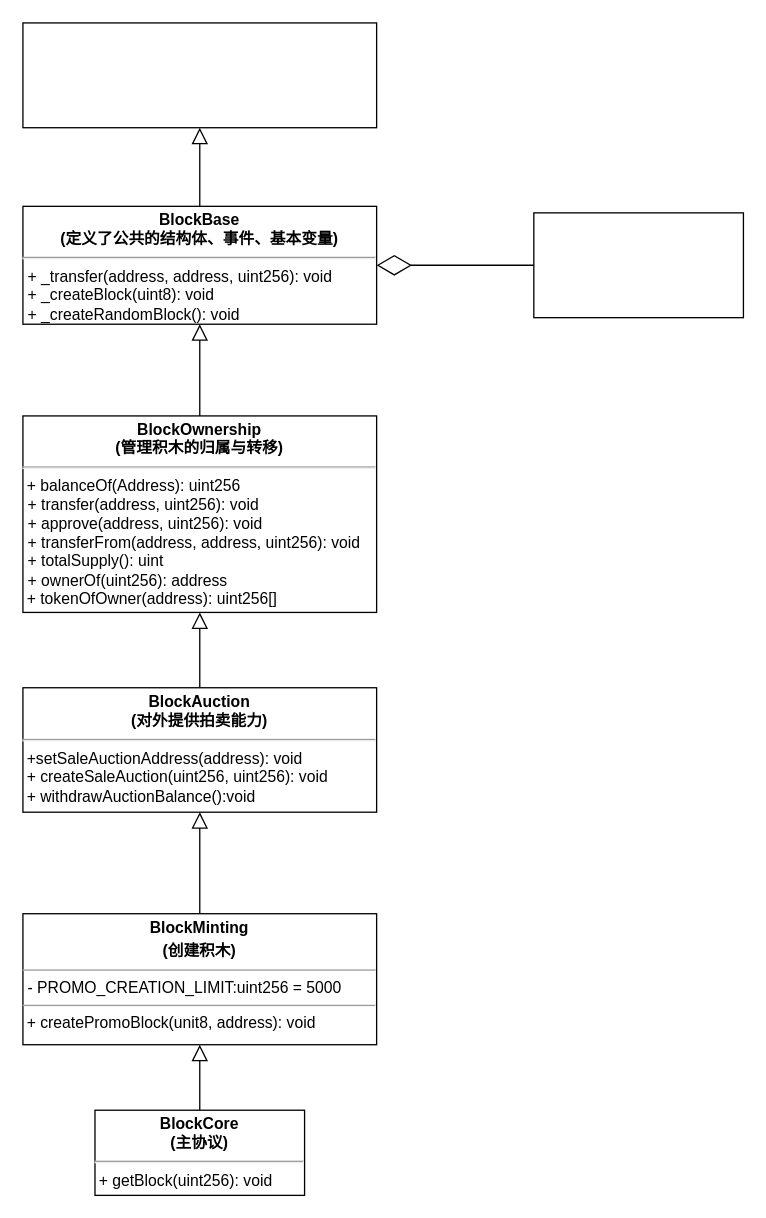
This 766x1218 diagram has some shape labels left out. Each missing label, with the centre of its shape:
"Block (积木结构体) + color: uint8 + ingroup: bool" belongs at (638,265).
"BlockAccessControl (定义了CEO的基本权限和管理功能) + pause(): void + unpause(): void" belongs at (199,75).
